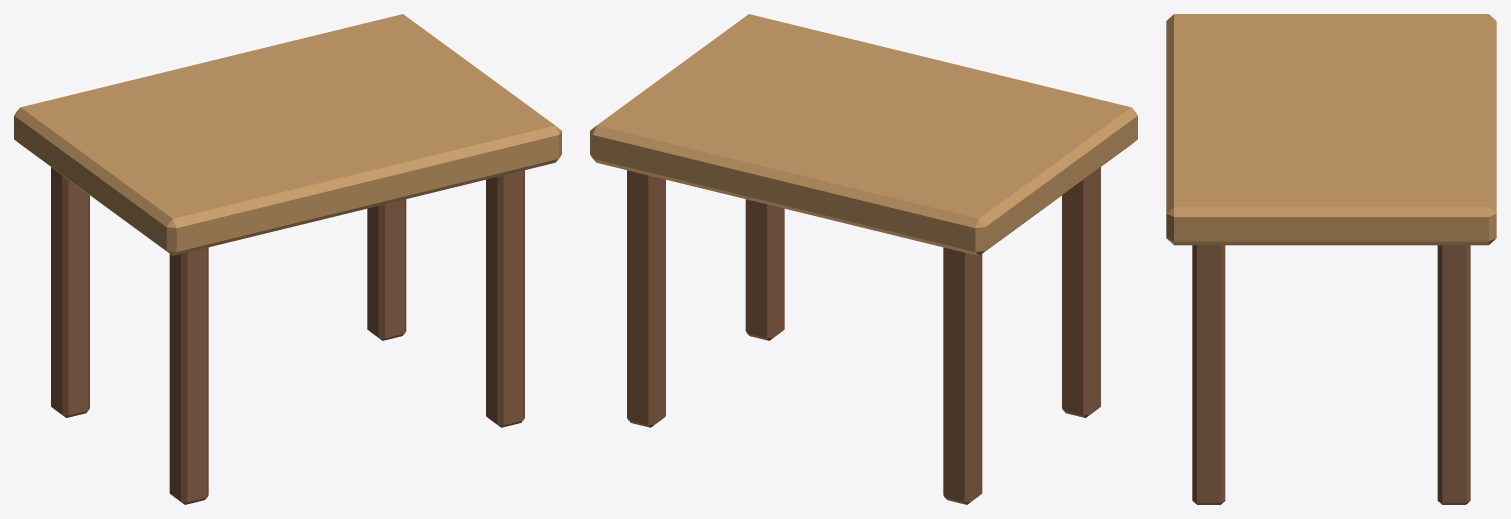
File: SM_CH_Paper_Table.fbx
3 views of the same model, side by side, from view 1: azimuth 30°, elevation 25°; view 2: azimuth 150°, elevation 25°; view 3: azimuth 270°, elevation 25° (orthographic). The views are drawn at different scales.
Visible parts, largest first — view 1: SM_CH_Paper_Table; view 2: SM_CH_Paper_Table; view 3: SM_CH_Paper_Table.
Part boxes in pixels (x1,y1,x2,y2): SM_CH_Paper_Table: (14,14,561,504); SM_CH_Paper_Table: (590,14,1137,504); SM_CH_Paper_Table: (1166,14,1496,504).
Size of the model in its own units: 10000 by 7000 by 7250.
